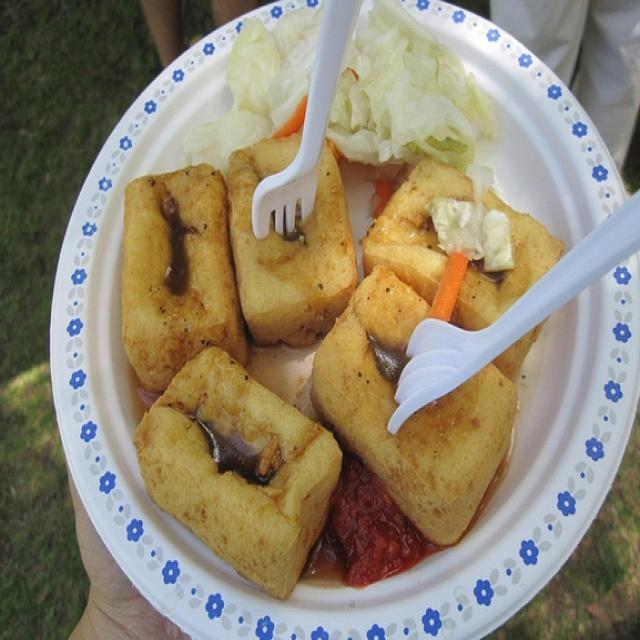豆腐料理: (41, 13, 619, 626)
